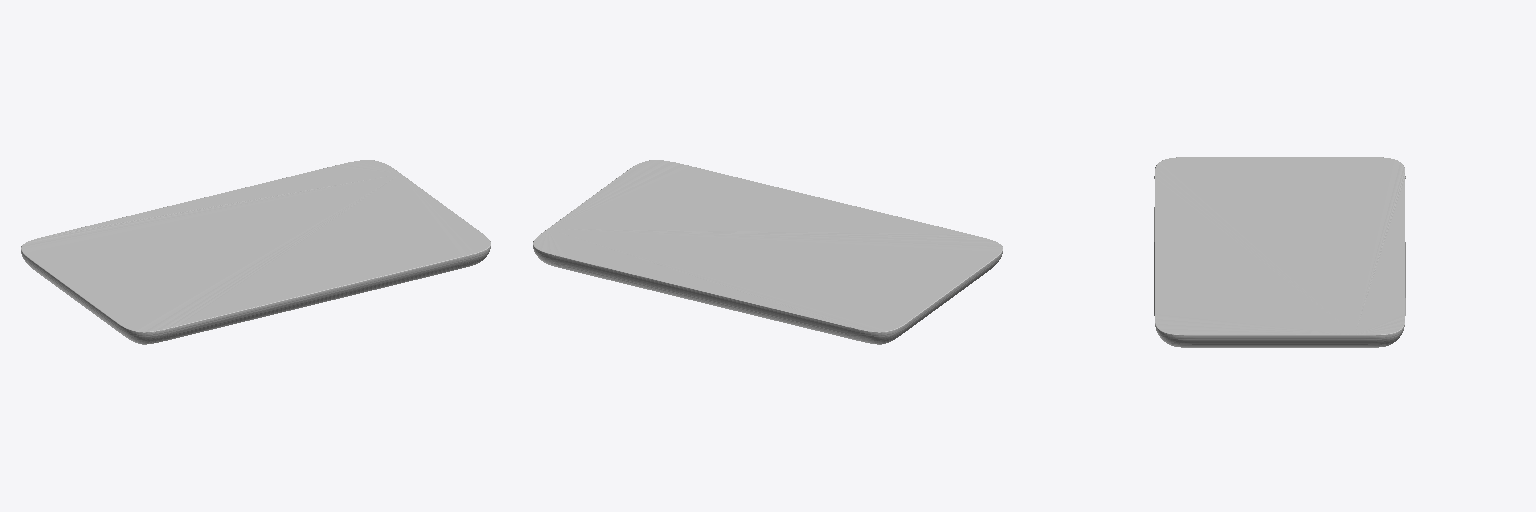
The model's file is daska.obj.
The picture shows the model from 3 angles: view 1: azimuth 30°, elevation 25°; view 2: azimuth 150°, elevation 25°; view 3: azimuth 270°, elevation 25°; orthographic projection.
Parts seen in each view (by area): view 1: Table_TableMesh; view 2: Table_TableMesh; view 3: Table_TableMesh.
Part boxes in pixels (left/top/right/bottom): Table_TableMesh: left=21, top=160, right=490, bottom=344; Table_TableMesh: left=533, top=160, right=1002, bottom=344; Table_TableMesh: left=1154, top=157, right=1405, bottom=347.
Size of the model in its own units: 0.7286 by 0.0385 by 0.4329.